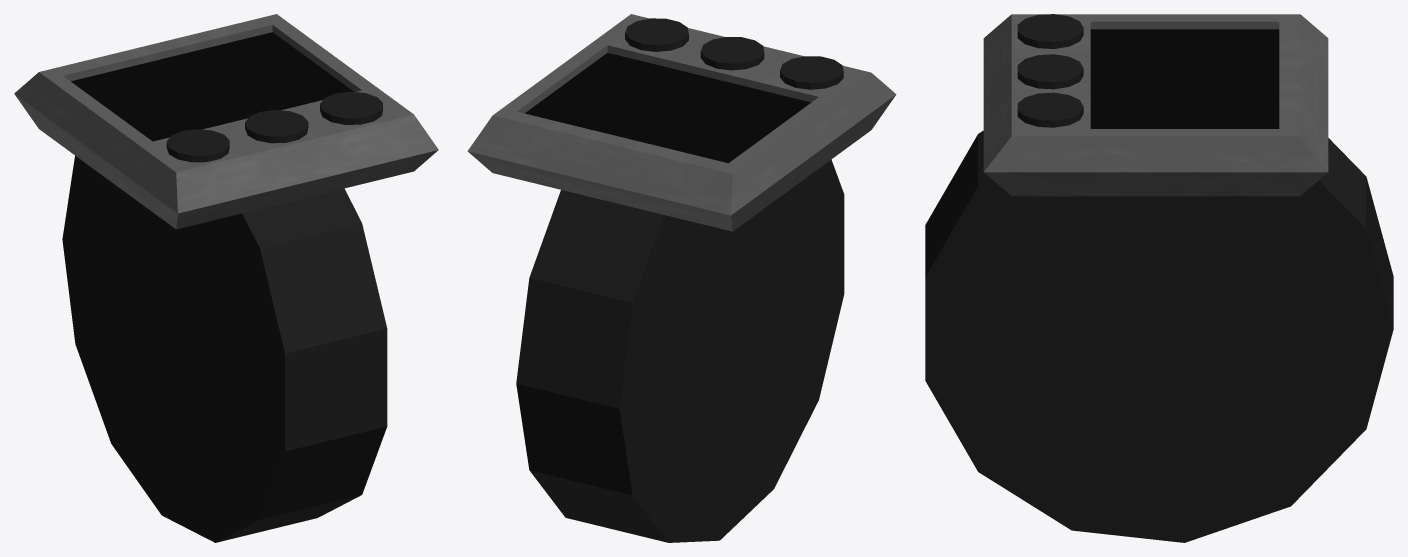
File: mod_player_WristWatch.fbx
3 views of the same model, side by side, from view 1: azimuth 30°, elevation 25°; view 2: azimuth 150°, elevation 25°; view 3: azimuth 270°, elevation 25° (orthographic). The views are drawn at different scales.
Parts seen in each view (by area): view 1: Cylinder.002; view 2: Cylinder.002; view 3: Cylinder.002.
Part boxes in pixels (bbox=[...]): Cylinder.002: bbox=[14, 14, 438, 542]; Cylinder.002: bbox=[467, 14, 896, 542]; Cylinder.002: bbox=[925, 14, 1393, 542].
Bounding box in the file's own units: 133 × 208 × 197.
